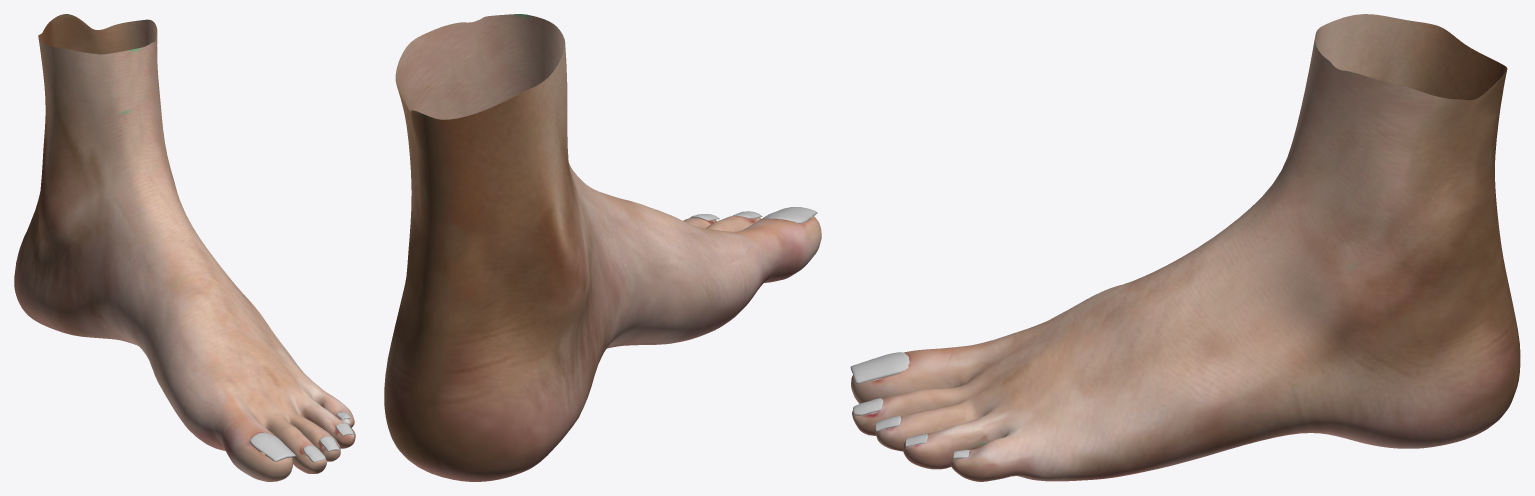
Rendered from pie.fbx.
3 views of the same model, side by side, from view 1: azimuth 30°, elevation 25°; view 2: azimuth 150°, elevation 25°; view 3: azimuth 270°, elevation 25° (orthographic). The views are drawn at different scales.
Visible parts, largest first — view 1: Foot, Плоскость; view 2: Foot, Плоскость; view 3: Foot, Плоскость.
Boxes of the visible parts, <box> form: Foot: <box>14,14,355,481</box>; Плоскость: <box>249,432,295,461</box>; Foot: <box>384,14,821,481</box>; Плоскость: <box>764,207,817,223</box>; Foot: <box>851,14,1520,481</box>; Плоскость: <box>850,352,909,383</box>.
Size of the model in its own units: 35.1 by 68.67 by 103.
